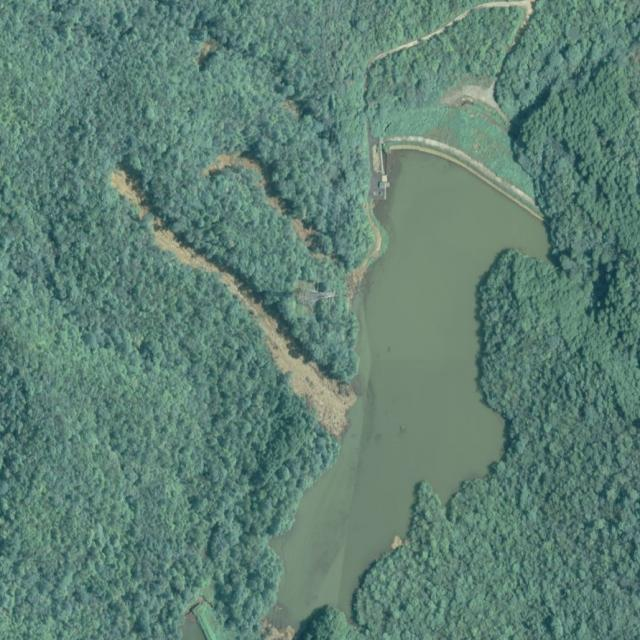landslide: (150, 215, 356, 439), (111, 169, 150, 217)
